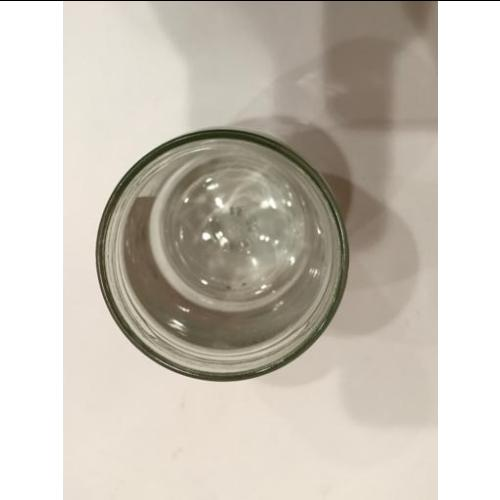glass: (96, 129, 348, 384)
